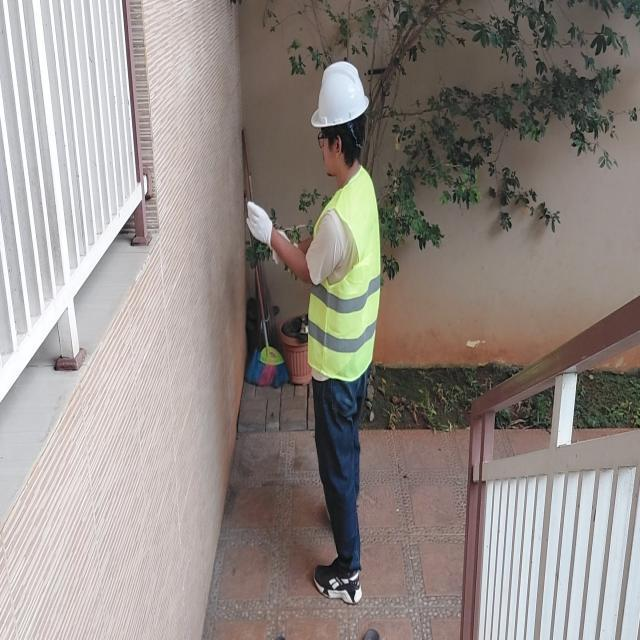white helmet: (311, 59, 374, 131)
